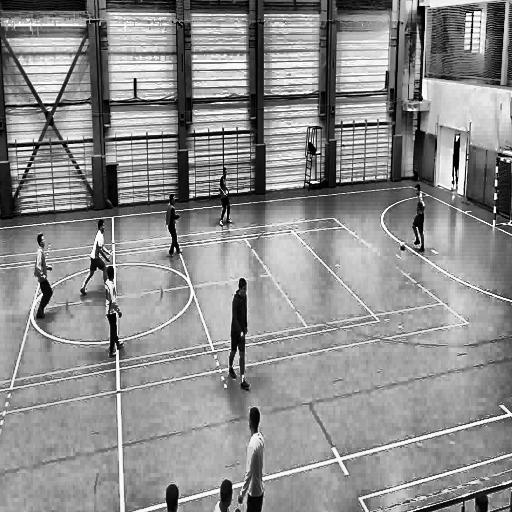ball: (400, 239, 407, 254)
player: (238, 405, 265, 512), (228, 275, 252, 392), (78, 217, 112, 297), (32, 231, 54, 320), (104, 266, 125, 359), (164, 190, 183, 260), (410, 181, 426, 254), (218, 164, 234, 229)
